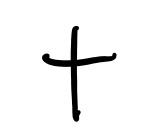plus: (42, 24, 114, 116)
